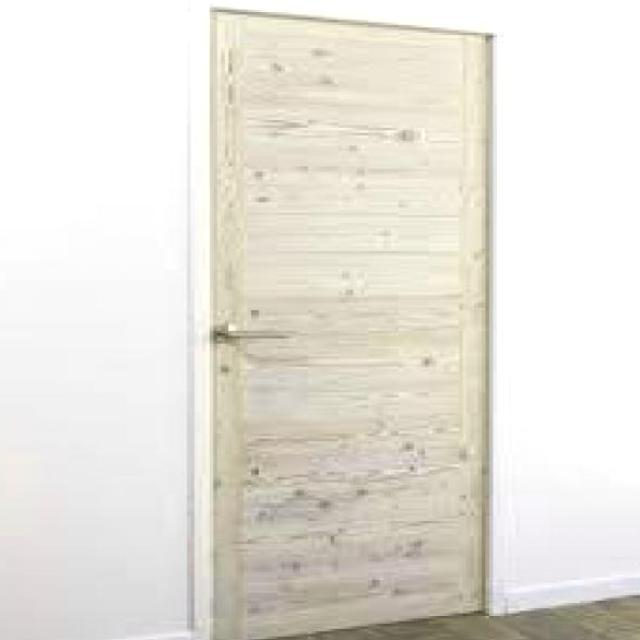door: (206, 7, 493, 638)
